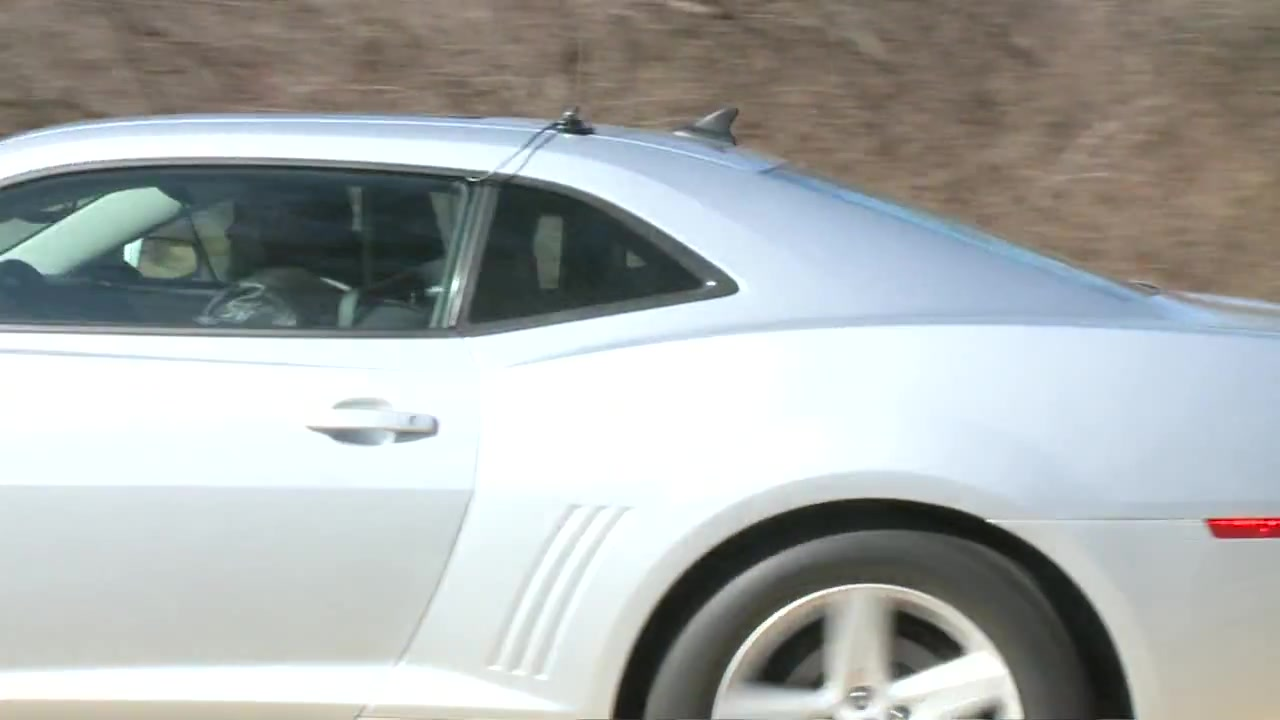car: (1, 117, 1280, 720)
